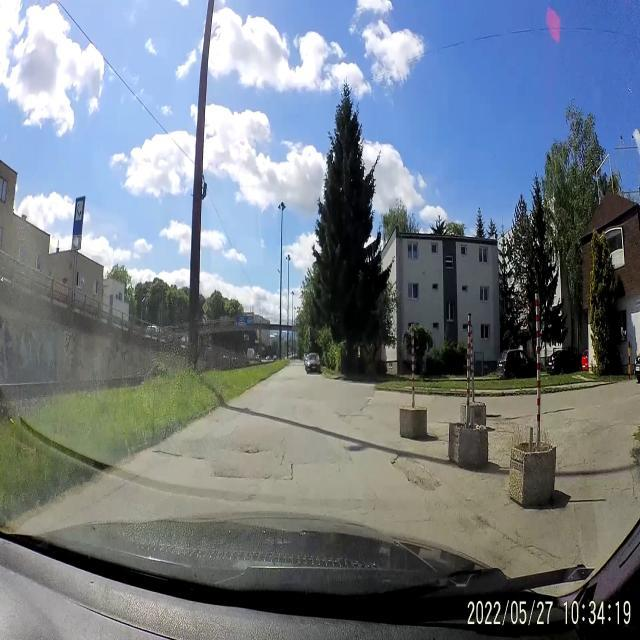Pothole: (387, 448, 442, 496), (520, 540, 566, 570), (332, 408, 375, 426), (150, 446, 183, 461), (242, 444, 266, 456), (188, 452, 206, 464)
